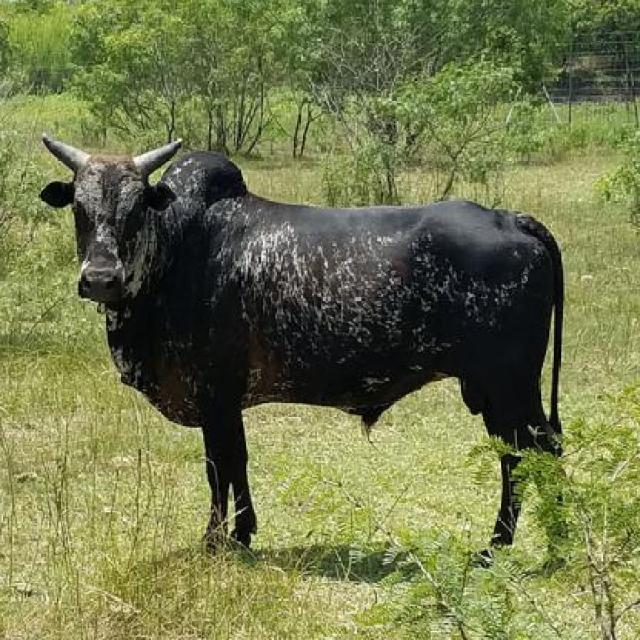Cow: (32, 124, 582, 570)
